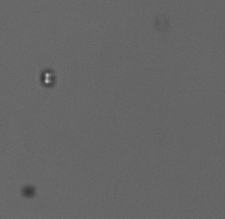Living Cell: (39, 69, 55, 88)
